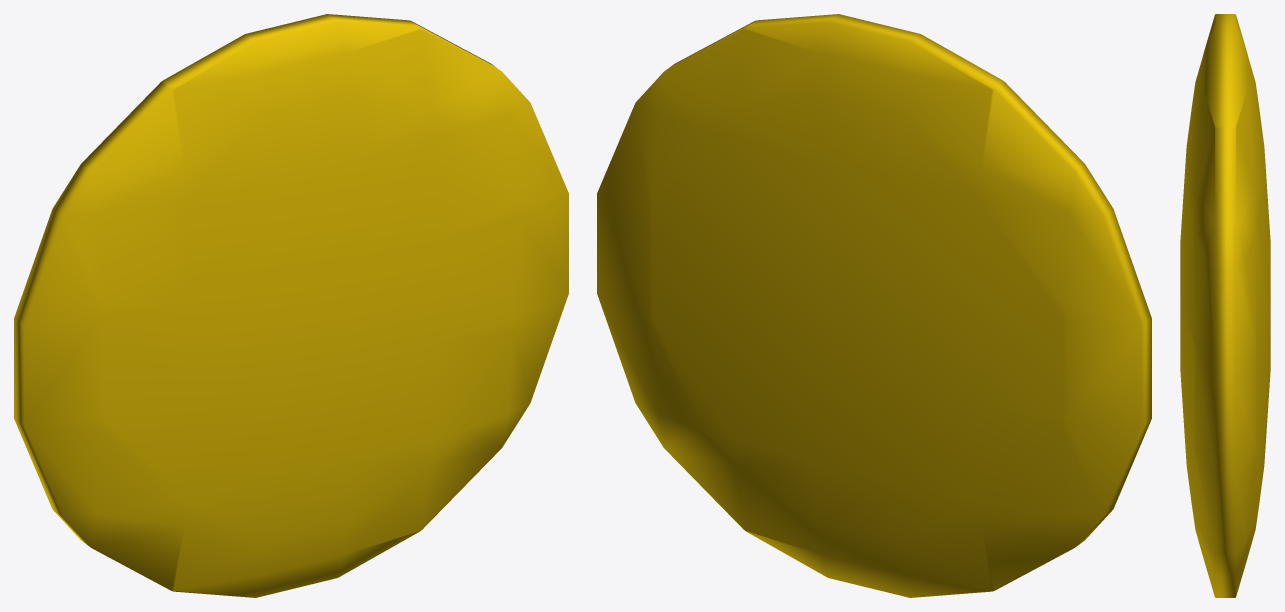
3 views of the same model, side by side, from view 1: azimuth 30°, elevation 25°; view 2: azimuth 150°, elevation 25°; view 3: azimuth 270°, elevation 25° (orthographic). The views are drawn at different scales.
Parts seen in each view (by area): view 1: МСфера; view 2: МСфера; view 3: МСфера.
Part boxes in pixels (left/top/right/bottom): МСфера: left=14, top=14, right=568, bottom=597; МСфера: left=597, top=14, right=1151, bottom=597; МСфера: left=1180, top=14, right=1270, bottom=597.
Bounding box in the file's own units: 471 × 460 × 72.03.
